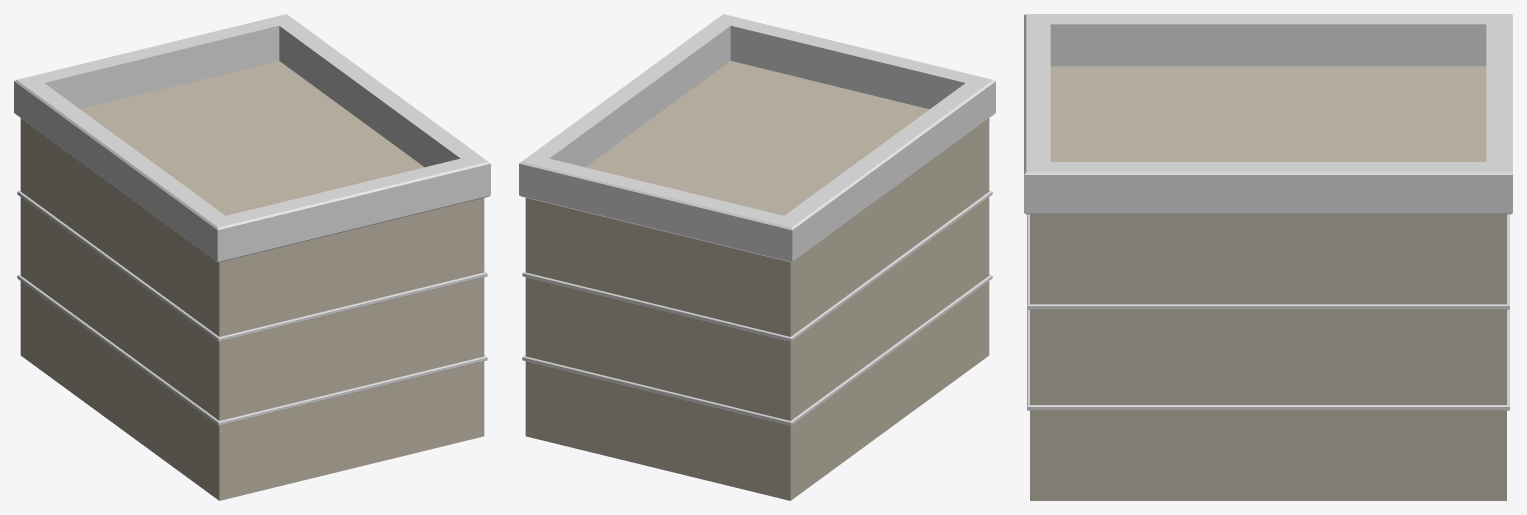
File: casa_3_alturas_a.fbx
3 views of the same model, side by side, from view 1: azimuth 30°, elevation 25°; view 2: azimuth 150°, elevation 25°; view 3: azimuth 270°, elevation 25° (orthographic). The views are drawn at different scales.
Parts seen in each view (by area): view 1: CASA_3_alturas; view 2: CASA_3_alturas; view 3: CASA_3_alturas.
Boxes of the visible parts, x1=… form: CASA_3_alturas: x1=14, y1=14, x2=490, y2=500; CASA_3_alturas: x1=519, y1=14, x2=995, y2=500; CASA_3_alturas: x1=1024, y1=14, x2=1512, y2=500.
Bounding box in the file's own units: 1032 × 993 × 1332.
